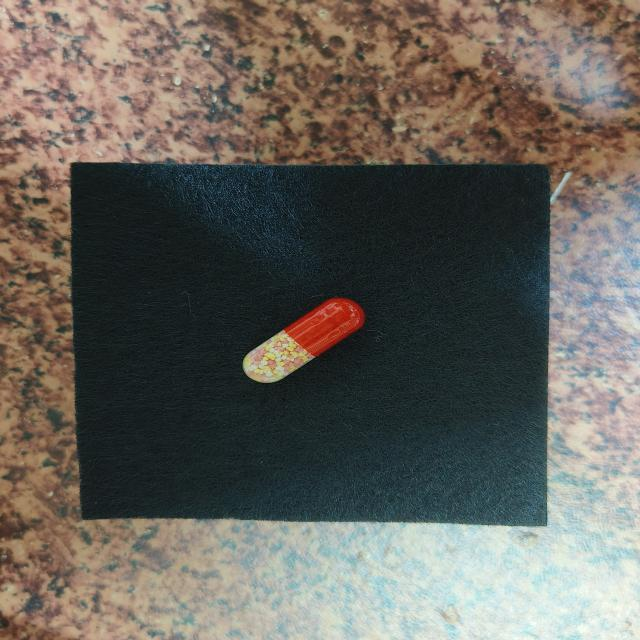Intact Capsule: (242, 297, 365, 383)
